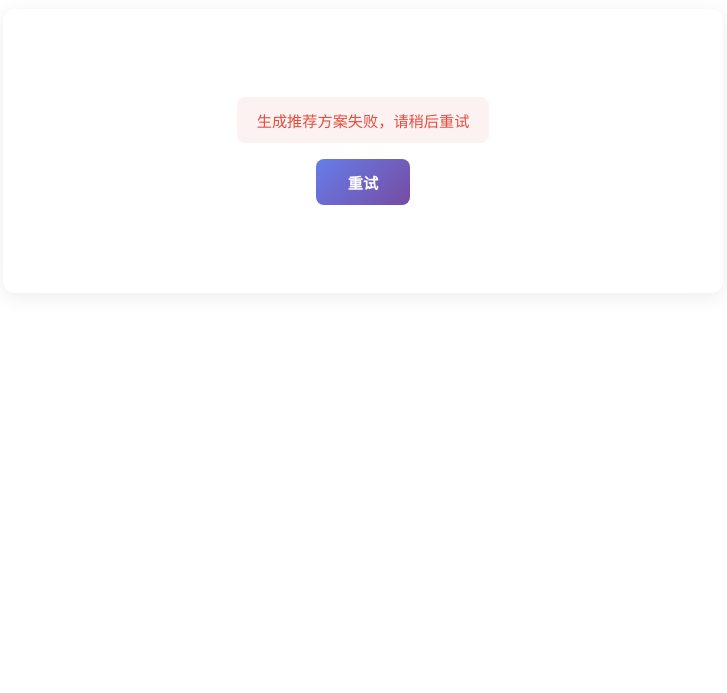
ResultPage › error case 2: retry button calls generateRecommendation again
Check: the message "生成推荐方案失败，请稍后重试" is shown, box [237,97,489,143]
Note: Click retry
Click the button "重试": (363, 182) [316,159,410,205]
(page scrolled)
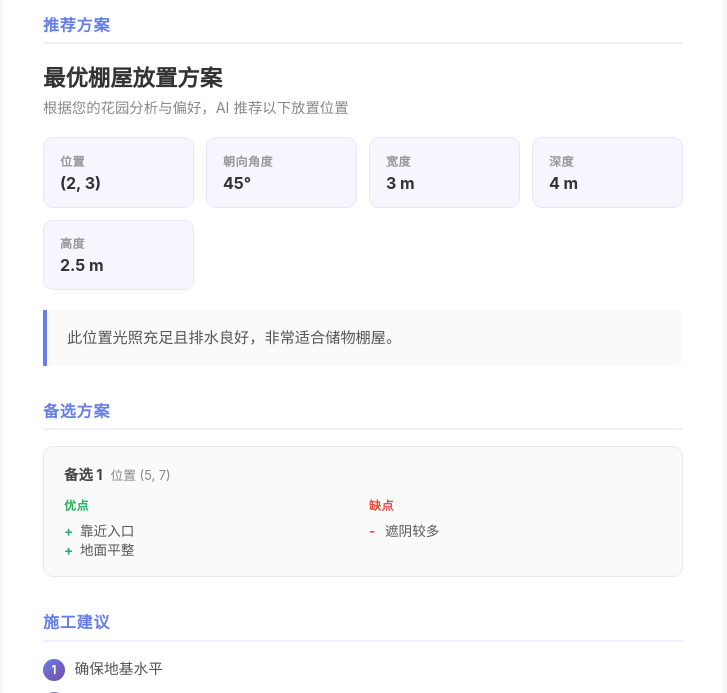
Check: the text "此位置光照充足且排水良好，非常适合储物棚屋。" is shown, box [43,310,683,366]
